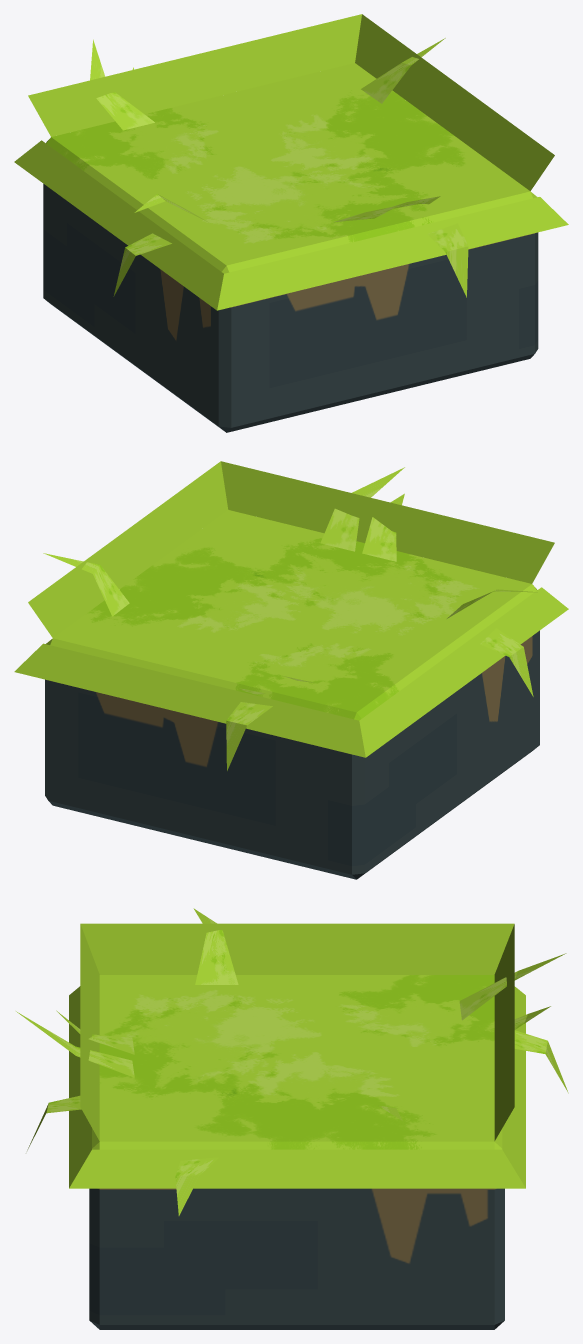
The model's file is tile_grass_01.glb.
3 views of the same model, one above another, from view 1: azimuth 30°, elevation 25°; view 2: azimuth 150°, elevation 25°; view 3: azimuth 270°, elevation 25° (orthographic). The views are drawn at different scales.
Visible parts, largest first — view 1: tile_grass_01; view 2: tile_grass_01; view 3: tile_grass_01.
Part boxes in pixels (x1,y1,x2,y2): tile_grass_01: (14, 14, 568, 432); tile_grass_01: (14, 461, 568, 879); tile_grass_01: (16, 908, 568, 1329).
Size of the model in its own units: 1.29 by 0.6672 by 1.34.
1 material, 1 textured.
